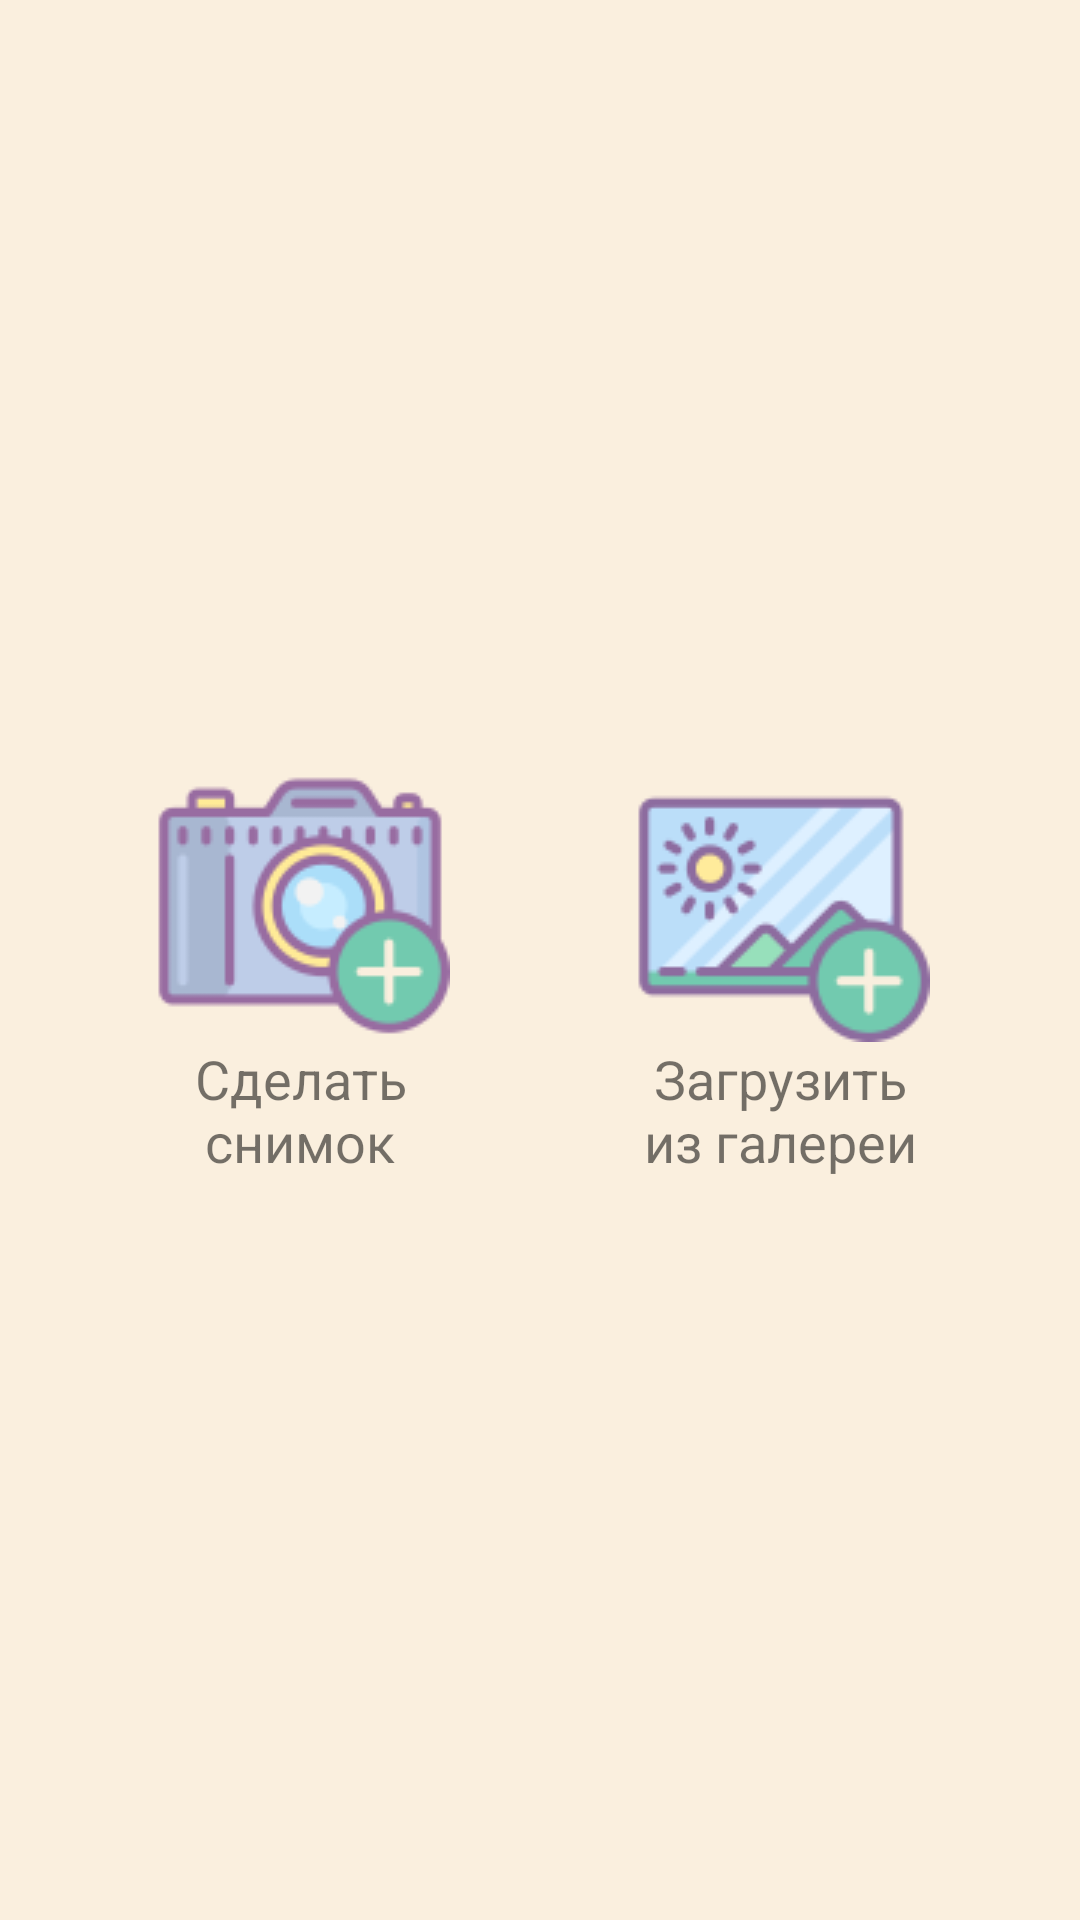

Icon click points for this 1080px x 1920px phone screenshot, format (x=x, y=y):
add camera: (x=304, y=906)
